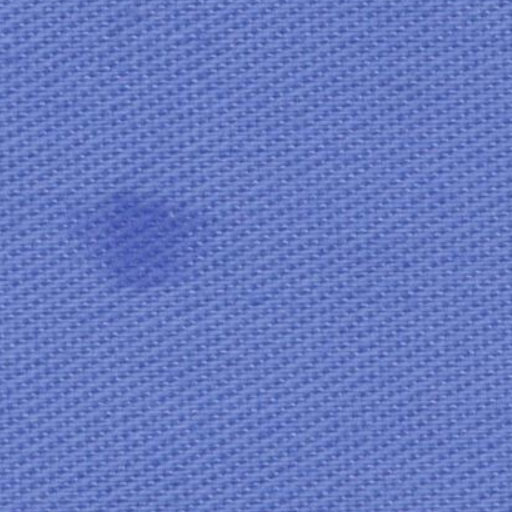WuZi: (60, 162, 224, 318)
